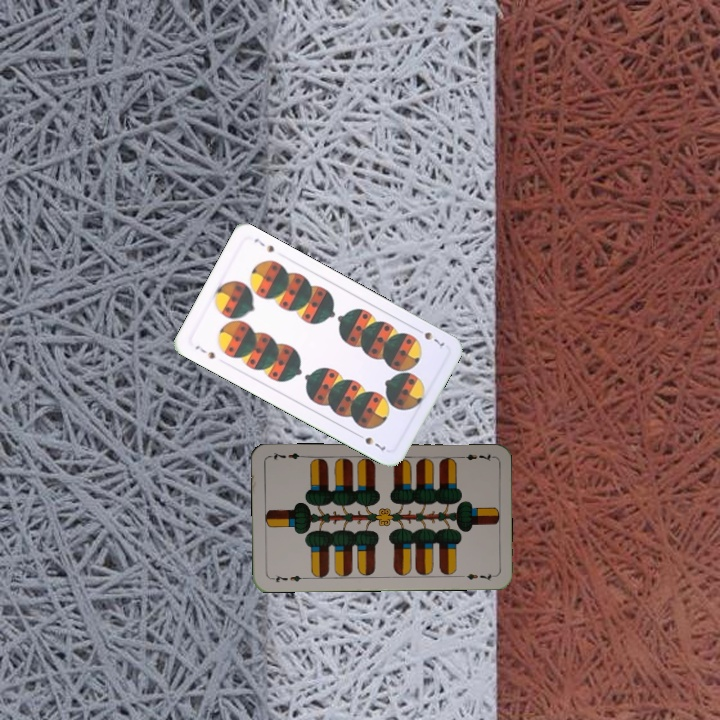E7: (267, 571, 308, 585), (454, 450, 495, 463)
S7: (411, 324, 447, 349), (191, 341, 218, 362)
